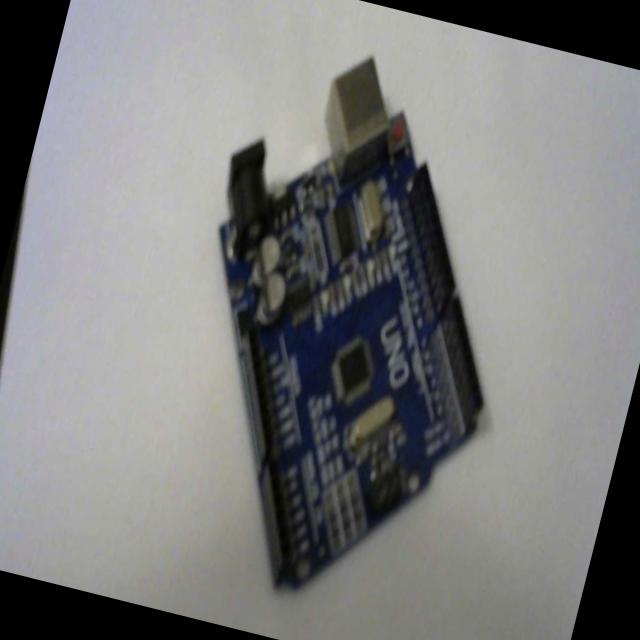arduino: (118, 22, 569, 640)
